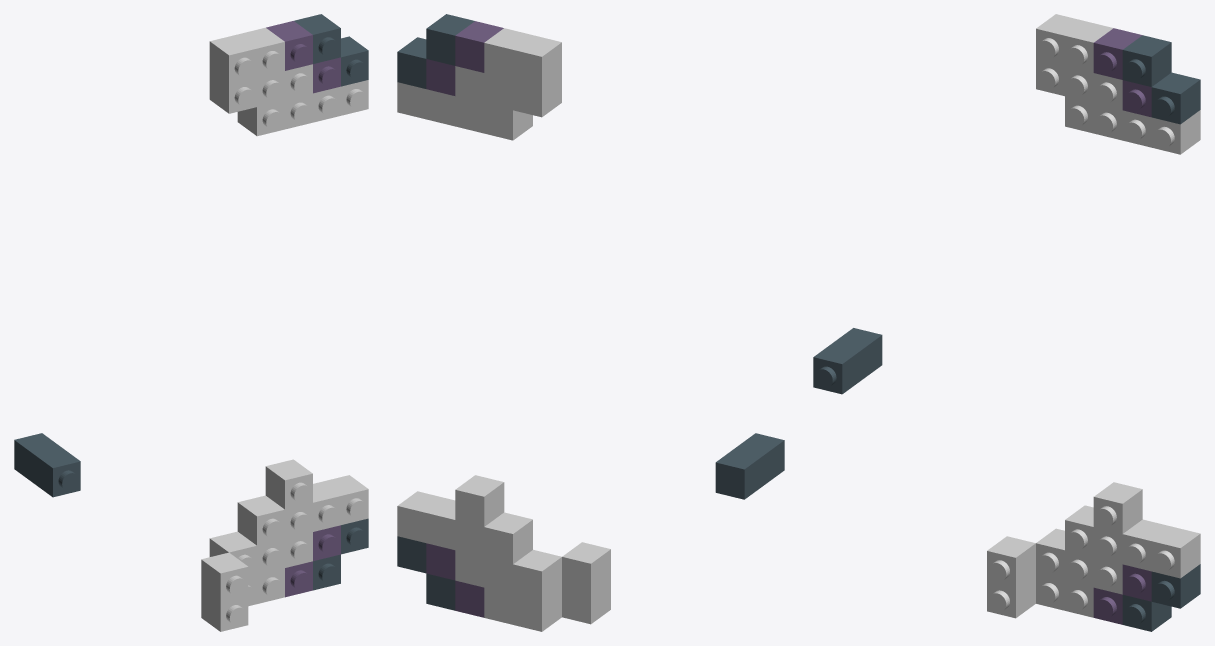
Rendered from full.glb.
3 views of the same model, side by side, from view 1: azimuth 30°, elevation 25°; view 2: azimuth 150°, elevation 25°; view 3: azimuth 330°, elevation 25° (orthographic). The views are drawn at different scales.
Visible parts, largest first — view 1: world; view 2: world; view 3: world.
Boxes of the visible parts, box(x1,y1,x2,y2) form: world: box(14, 14, 368, 631); world: box(397, 14, 784, 631); world: box(813, 14, 1200, 631).
Size of the model in its own units: 96 by 152 by 21.
